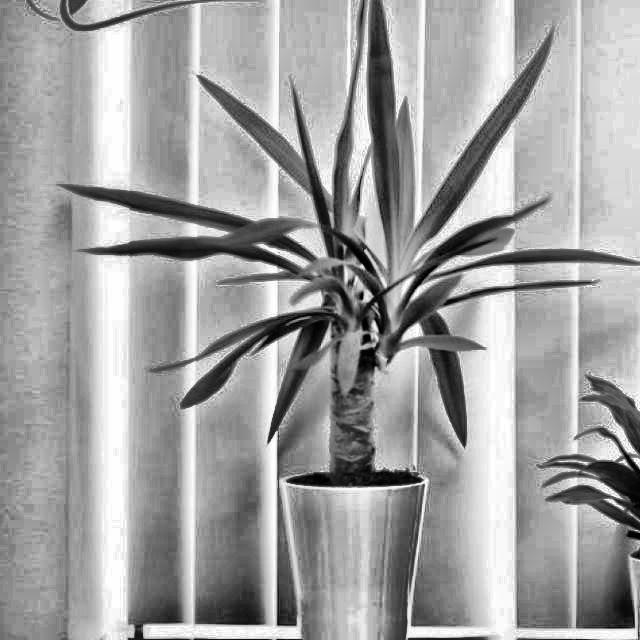plants: (128, 113, 532, 460), (549, 356, 640, 548)
